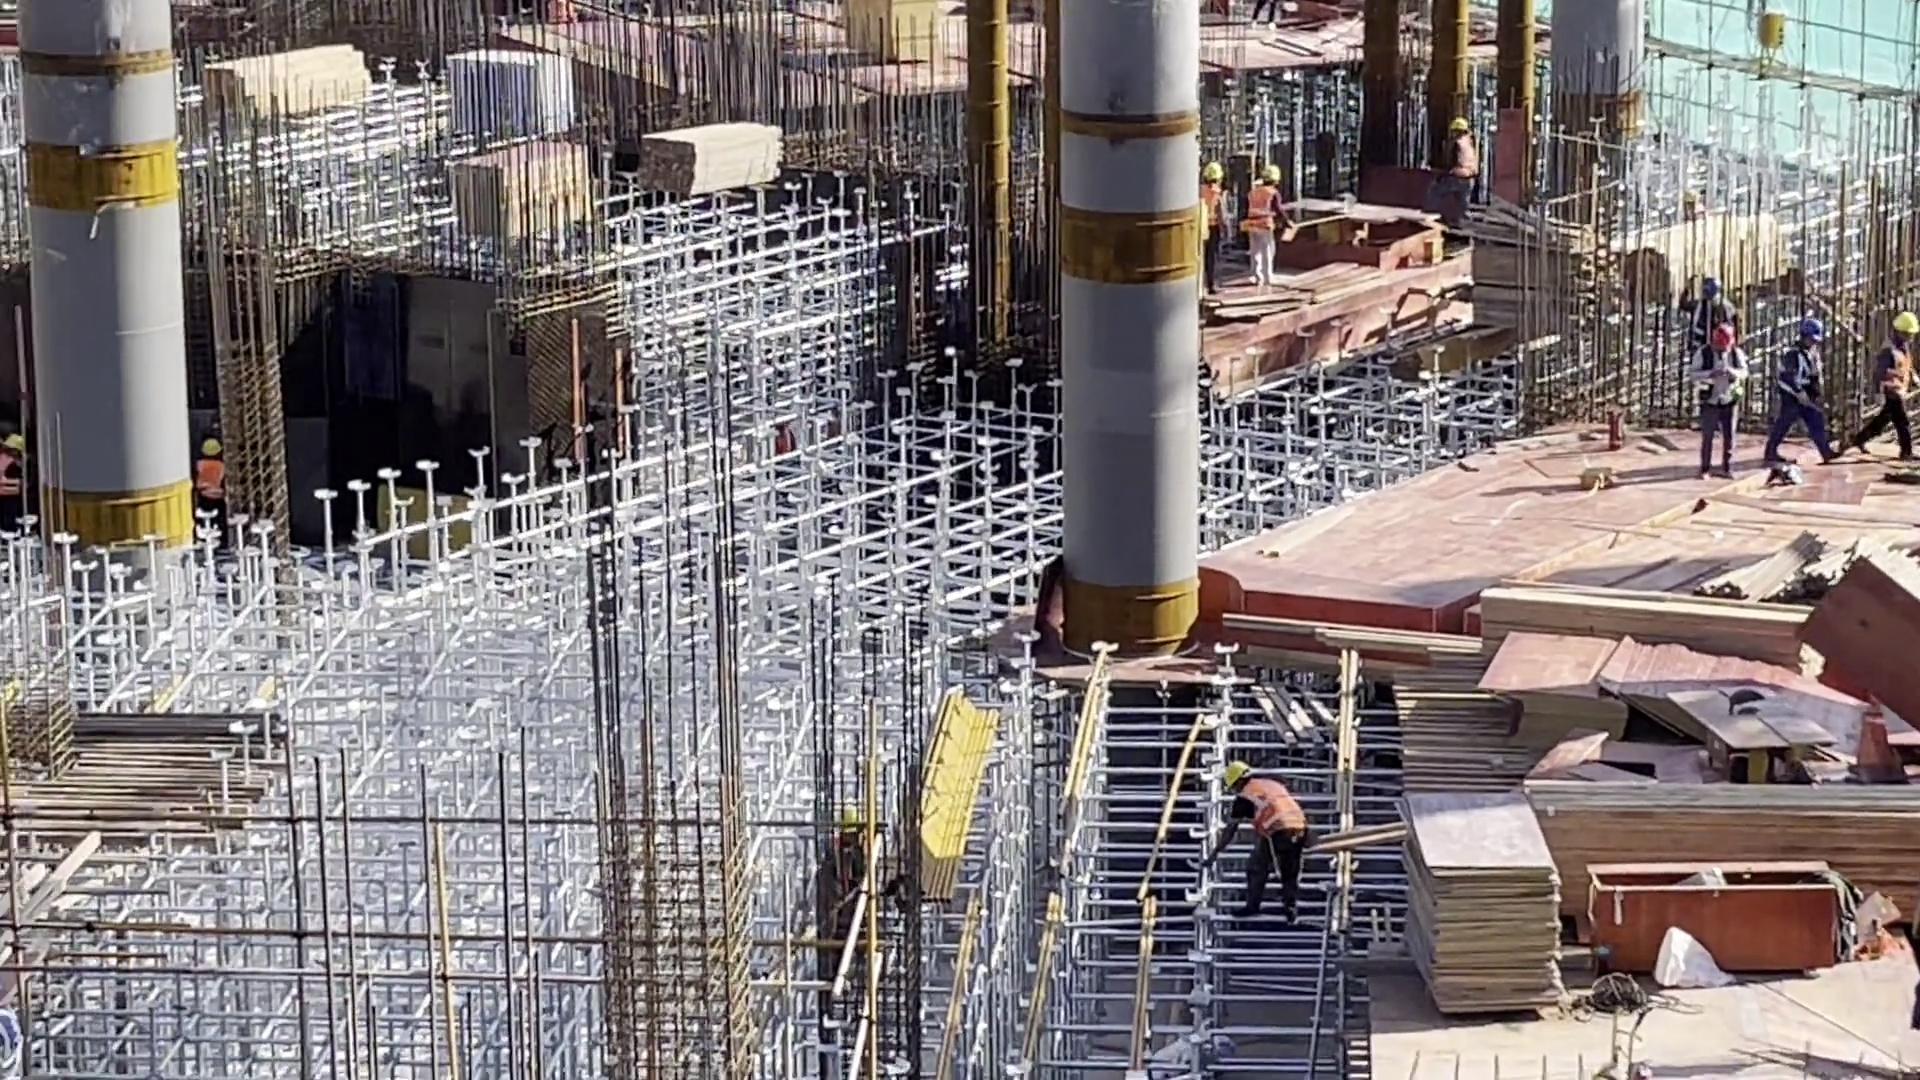board: (1392, 785, 1569, 1021), (1498, 626, 1625, 770), (452, 144, 596, 238)
cutter: (1672, 672, 1834, 780), (1290, 193, 1446, 275)
ebox: (1755, 4, 1789, 80)
helmet: (1707, 326, 1742, 351), (1221, 762, 1249, 793), (1892, 311, 1917, 338), (1699, 275, 1724, 302), (1799, 317, 1824, 342), (197, 435, 224, 457), (1258, 161, 1283, 184), (1205, 160, 1224, 185), (1448, 116, 1470, 133), (7, 431, 24, 452)
person: (1207, 756, 1306, 929), (1769, 319, 1835, 469), (1690, 322, 1744, 481), (1864, 311, 1916, 465), (1242, 162, 1290, 288), (1196, 160, 1230, 293), (1442, 117, 1481, 226), (1672, 270, 1734, 326), (1, 429, 26, 531), (192, 442, 226, 511), (1246, 1, 1281, 36)
vest: (1247, 779, 1311, 839), (1778, 352, 1827, 411), (1696, 352, 1742, 409), (1246, 186, 1279, 239), (1878, 347, 1911, 398), (1201, 183, 1226, 248), (193, 460, 228, 503), (1447, 135, 1475, 181)
wood: (1530, 770, 1920, 870), (1479, 579, 1815, 660), (203, 40, 376, 112), (637, 119, 785, 197)
